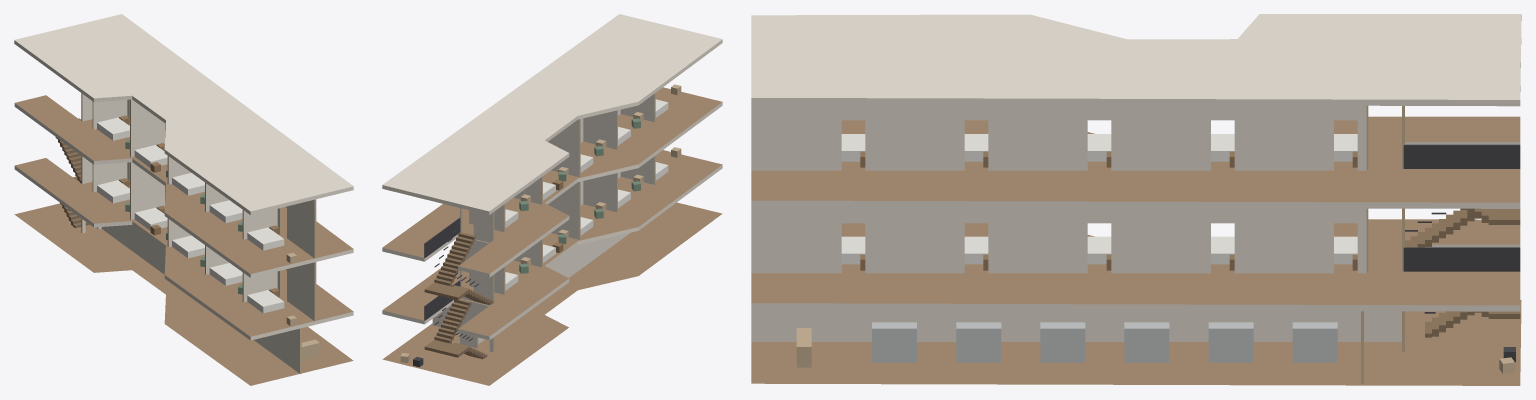
File: interior.glb
3 views of the same model, side by side, from view 1: azimuth 30°, elevation 25°; view 2: azimuth 150°, elevation 25°; view 3: azimuth 270°, elevation 25° (orthographic). The views are drawn at different scales.
Parts seen in each view (by area): view 1: slabs, partitions, coarse-s2, coarse-s1, stair, coarse-s0; view 2: slabs, partitions, stair, coarse-s2, coarse-s1; view 3: slabs, partitions, coarse-s0, stair, coarse-s1, coarse-s2.
Boxes of the visible parts, bbox=[...] form: slabs: bbox=[14, 14, 353, 385]; partitions: bbox=[81, 93, 316, 373]; coarse-s2: bbox=[97, 115, 296, 263]; coarse-s1: bbox=[97, 178, 296, 326]; stair: bbox=[55, 118, 89, 228]; coarse-s0: bbox=[301, 339, 319, 359]; slabs: bbox=[382, 14, 722, 385]; partitions: bbox=[432, 93, 655, 351]; stair: bbox=[424, 217, 493, 359]; coarse-s2: bbox=[505, 84, 681, 227]; coarse-s1: bbox=[505, 147, 681, 290]; slabs: bbox=[751, 14, 1521, 385]; partitions: bbox=[751, 104, 1404, 383]; coarse-s0: bbox=[796, 322, 1515, 373]; stair: bbox=[1403, 144, 1520, 337]; coarse-s1: bbox=[841, 236, 1357, 270]; coarse-s2: bbox=[841, 134, 1357, 167].
Bounding box in the file's own units: 7.74 × 12.02 × 29.29.
